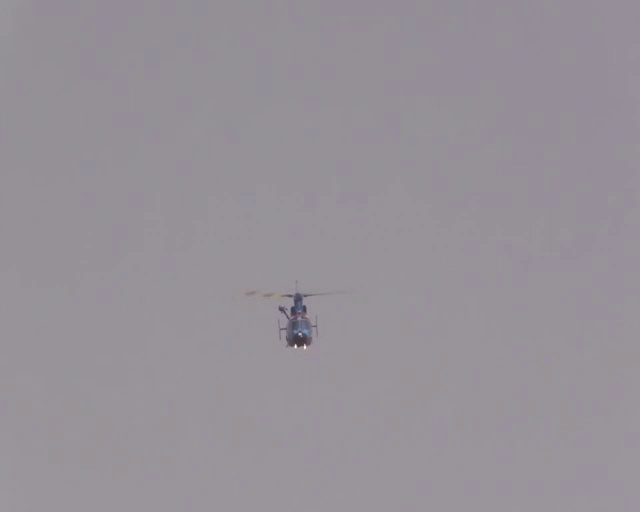HELICOPTER: (244, 278, 352, 350)
